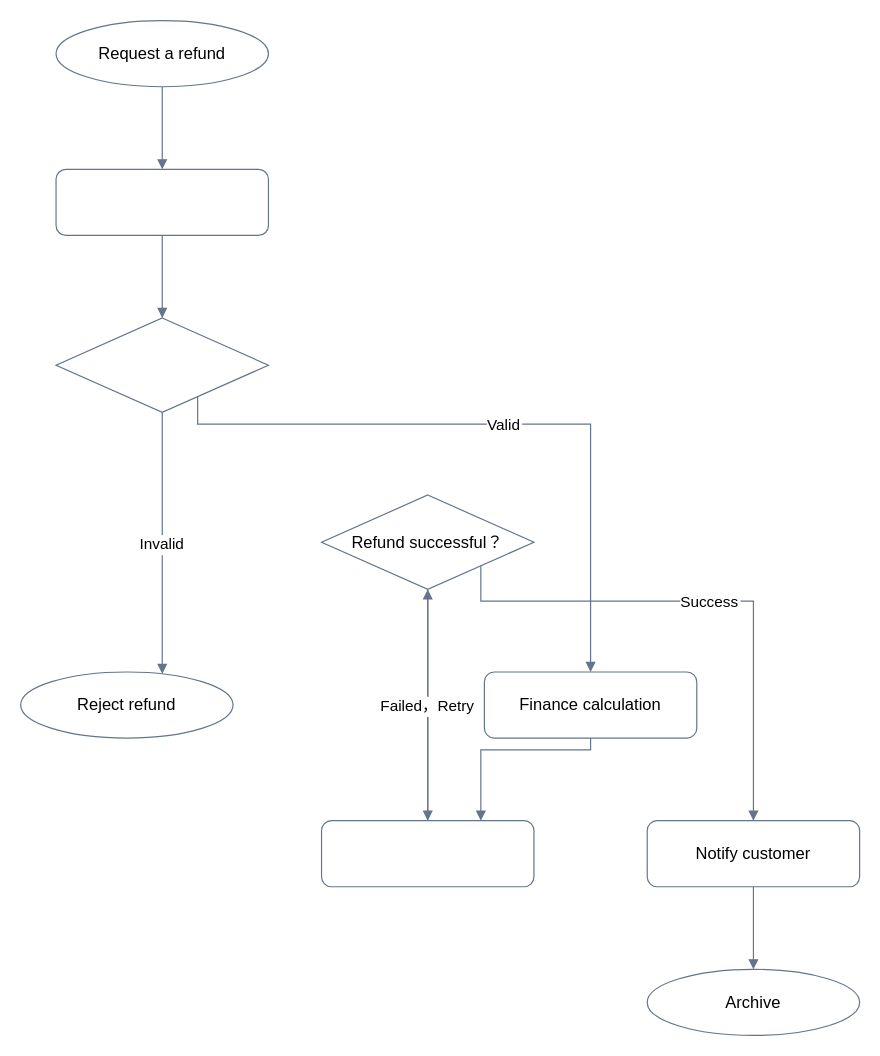
This 880x1056 diagram has some shape labels left out. Here are the shapes that lost their labels. From the top down, the centre of each, then its label:
point 161,201: Support validation
point 161,364: Order valid？
point 427,853: Execute refund
